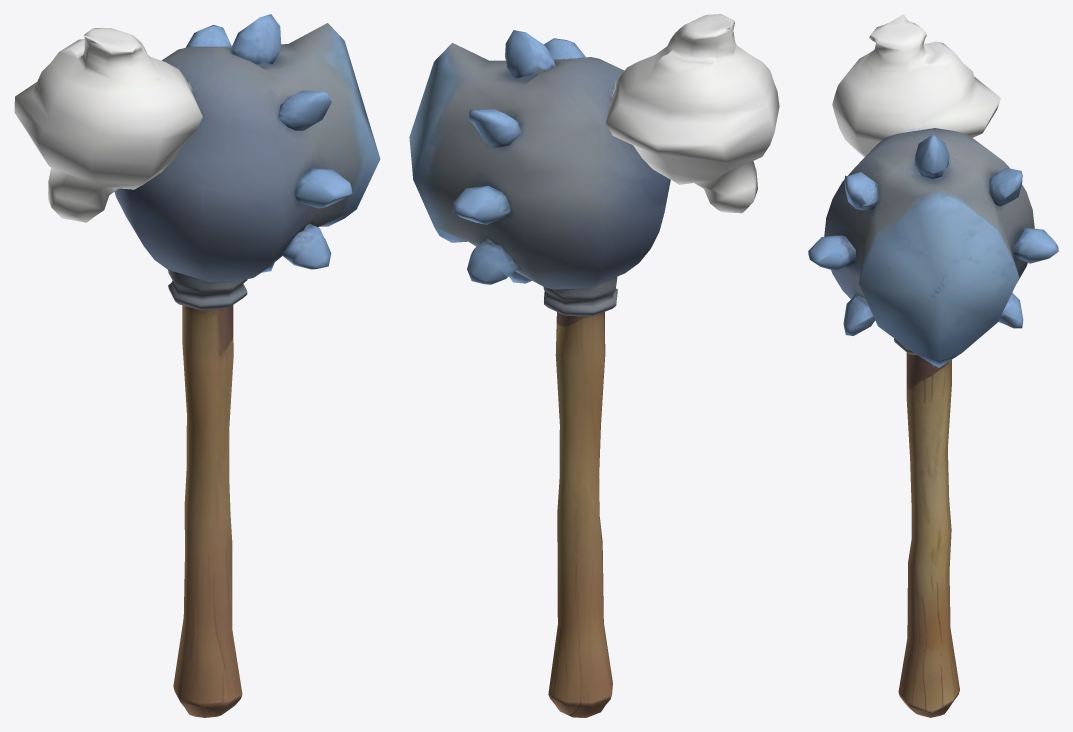
The model's file is rimecrusher.glb.
3 views of the same model, side by side, from view 1: azimuth 30°, elevation 25°; view 2: azimuth 150°, elevation 25°; view 3: azimuth 270°, elevation 25° (orthographic). The views are drawn at different scales.
Visible parts, largest first — view 1: tripo_node_565626e8-509c-41a2-8c69-528393c39373; view 2: tripo_node_565626e8-509c-41a2-8c69-528393c39373; view 3: tripo_node_565626e8-509c-41a2-8c69-528393c39373.
Part boxes in pixels (x1,y1,x2,y2): tripo_node_565626e8-509c-41a2-8c69-528393c39373: (14,14,380,717); tripo_node_565626e8-509c-41a2-8c69-528393c39373: (409,14,779,717); tripo_node_565626e8-509c-41a2-8c69-528393c39373: (808,14,1058,717).
Bounding box in the file's own units: 0.7108 × 1.4 × 0.4989.
Materials: 1 (1 with a texture image).
